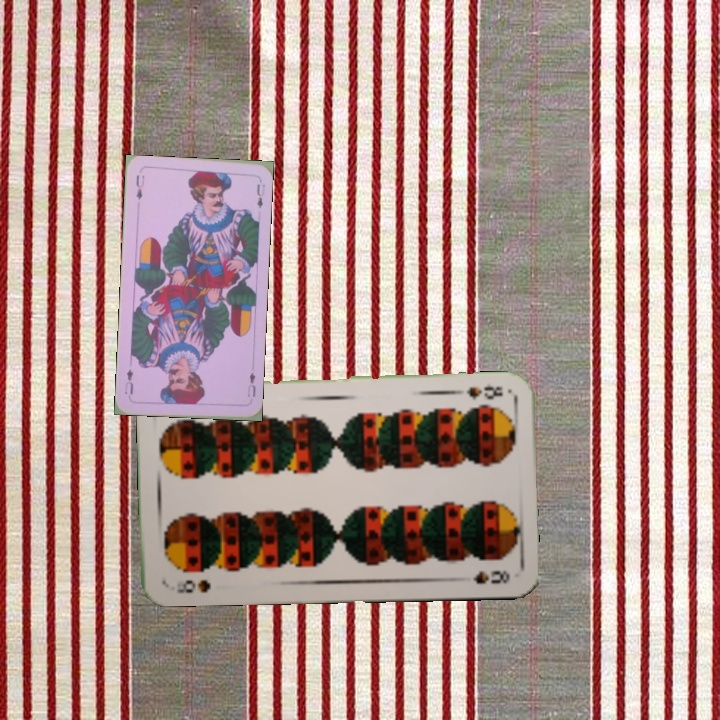EU: (132, 171, 147, 203), (243, 368, 258, 399)
S8: (462, 382, 506, 403), (172, 575, 214, 596)
